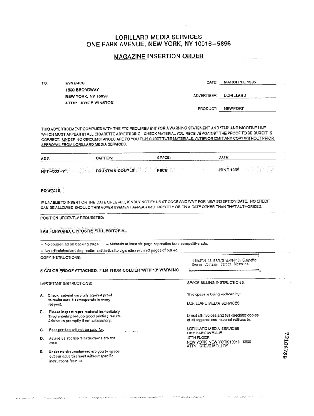textline: (218, 79, 277, 86), (218, 93, 277, 99), (218, 106, 276, 112)
